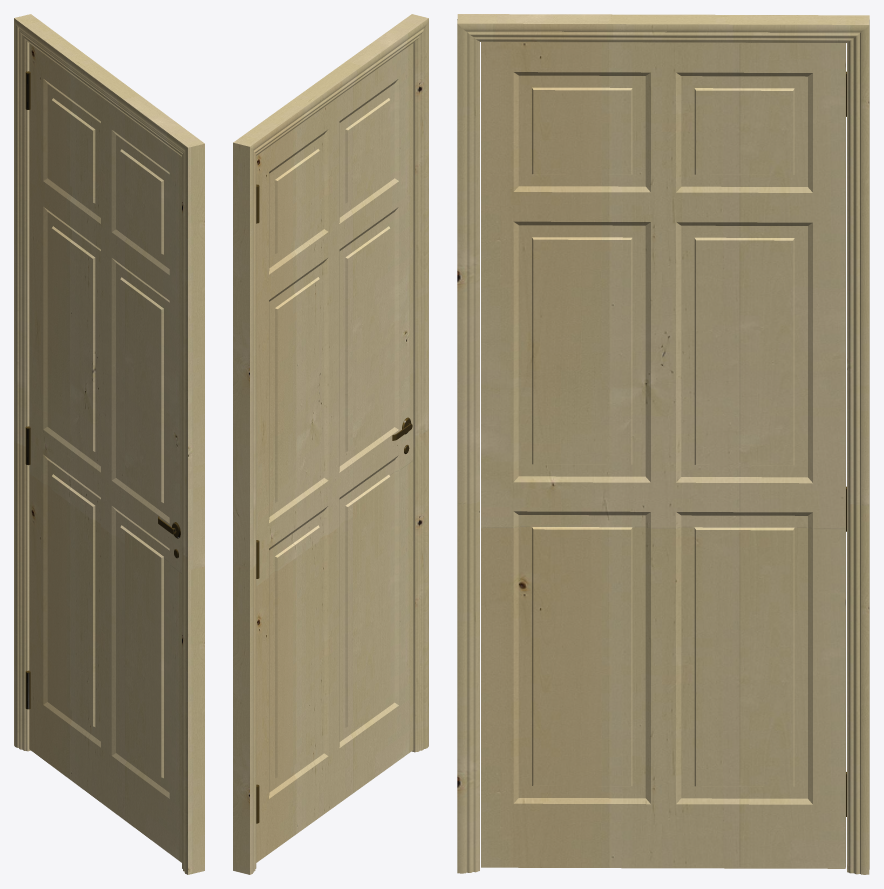
File: Door2.obj
3 renders of one model, left to right at view 1: azimuth 30°, elevation 25°; view 2: azimuth 150°, elevation 25°; view 3: azimuth 270°, elevation 25°, orthographic. The views are drawn at different scales.
Visible parts, largest first — view 1: 10057_wooden_door_v1, 10057_wooden_door_frame_v1; view 2: 10057_wooden_door_v1, 10057_wooden_door_frame_v1; view 3: 10057_wooden_door_v1, 10057_wooden_door_frame_v1.
Part boxes in pixels (<box>): 10057_wooden_door_v1: <box>25,43,181,862</box>; 10057_wooden_door_frame_v1: <box>14,14,204,874</box>; 10057_wooden_door_v1: <box>256,43,413,862</box>; 10057_wooden_door_frame_v1: <box>233,14,428,874</box>; 10057_wooden_door_v1: <box>481,42,846,868</box>; 10057_wooden_door_frame_v1: <box>457,14,869,874</box>.
Size of the model in its own units: 6.19 by 207 by 90.99.
Materials: 1 (1 with a texture image).
